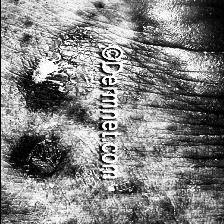Toxin: (15, 52, 66, 96), (16, 134, 54, 170)
